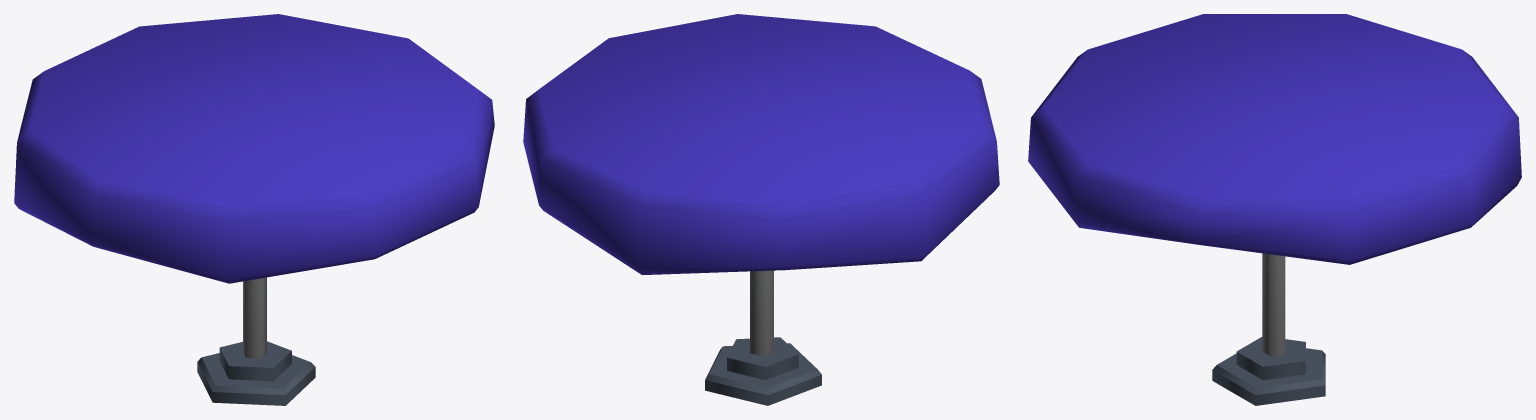
Rendered from Table_1_B.glb.
3 views of the same model, side by side, from view 1: azimuth 30°, elevation 25°; view 2: azimuth 150°, elevation 25°; view 3: azimuth 270°, elevation 25° (orthographic).
Visible parts, largest first — view 1: Table_1_B; view 2: Table_1_B; view 3: Table_1_B.
Boxes of the visible parts, bbox=[...] form: Table_1_B: bbox=[14, 14, 494, 405]; Table_1_B: bbox=[523, 14, 999, 405]; Table_1_B: bbox=[1028, 14, 1521, 405].
Bounding box in the file's own units: 1.34 × 0.863 × 1.41.
Materials: 2 (2 with a texture image).
